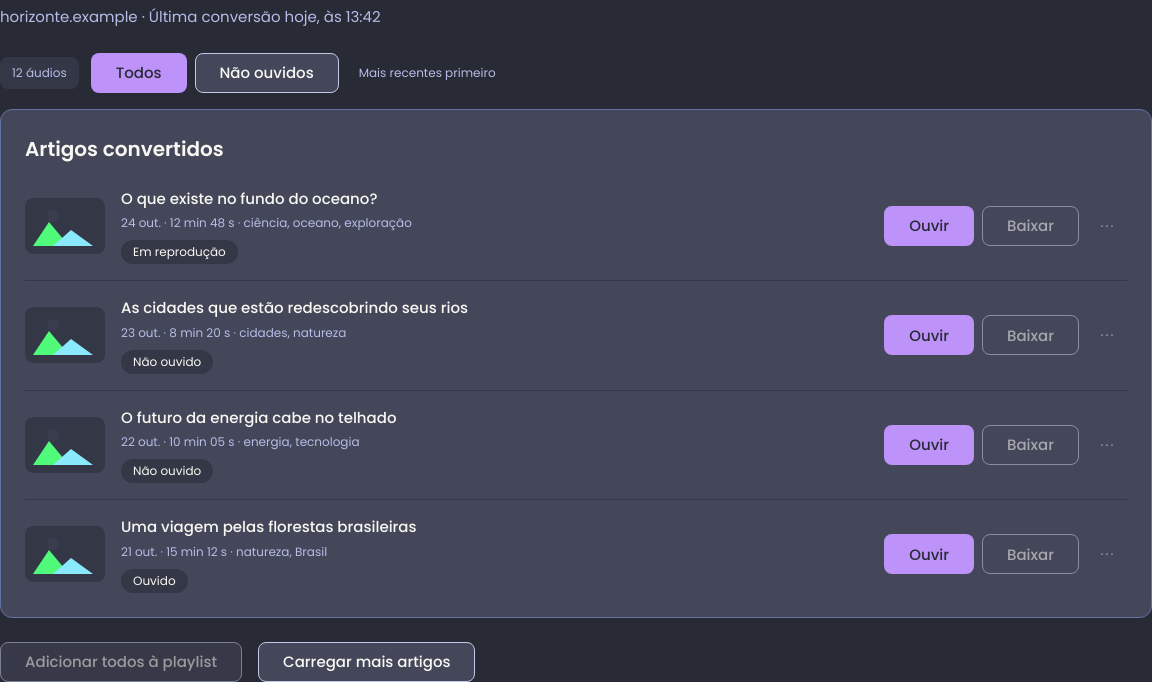
Scenario: renders error state on retry when loadMore failed after articles were loaded
(page scrolled)
Click the button "Carregar mais artigos". click: (367, 662)
box: left=258, top=642, right=476, bottom=681
(page scrolled)
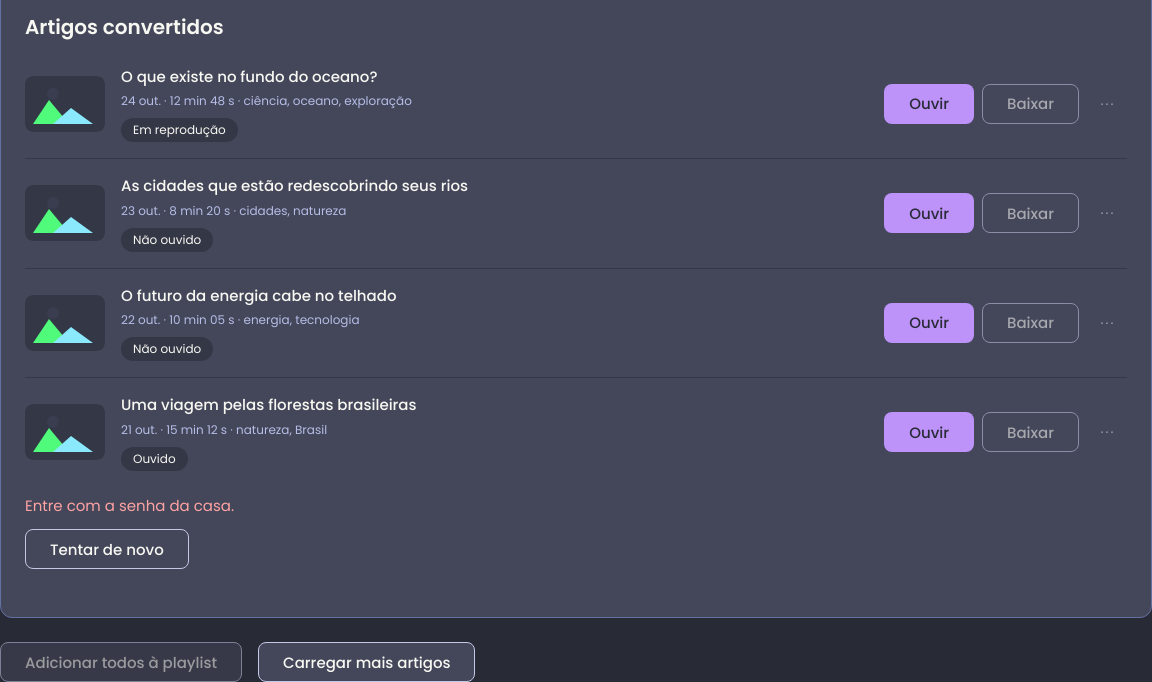
Expected: the heading "O que existe no fundo do oceano?" is shown, left=121, top=66, right=378, bottom=87
Now the message "Entre com a senha da casa." is shown, box left=25, top=495, right=234, bottom=517
Click the button "Tentar de novo". click: (107, 549)
box: left=25, top=529, right=189, bottom=569
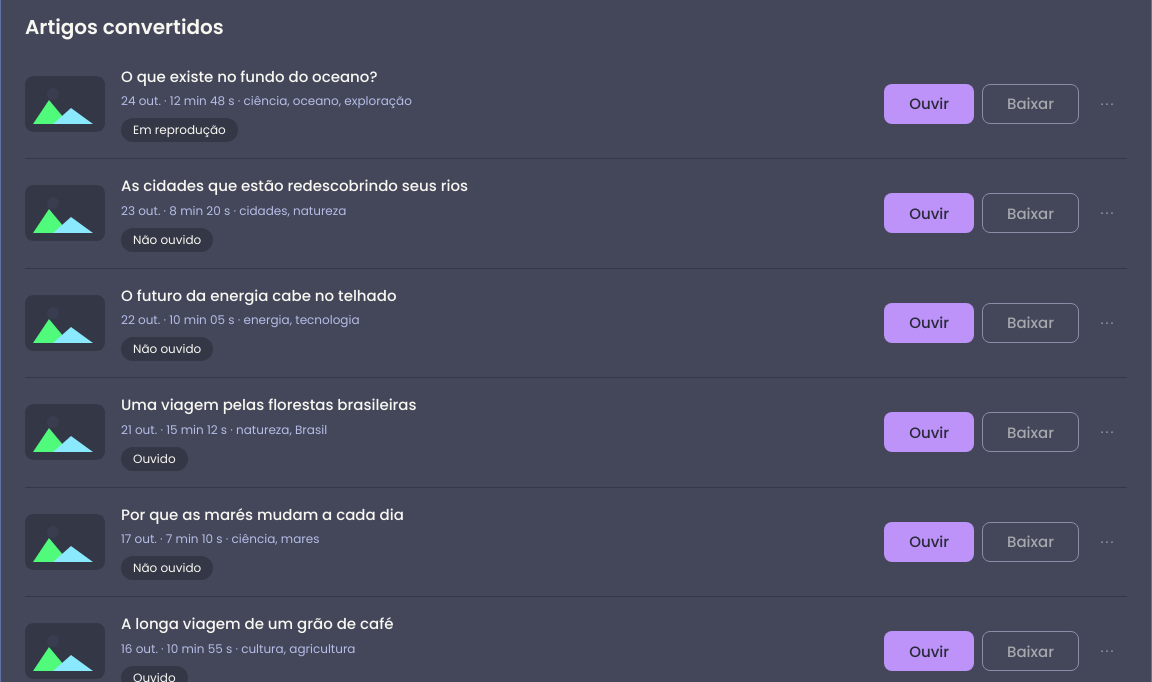
Now the heading "Por que as marés mudam a cada dia" is shown, box left=121, top=504, right=404, bottom=525
